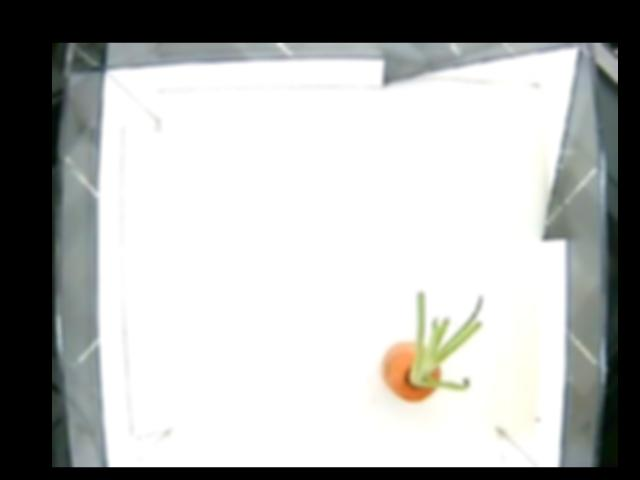Carrot: (380, 294, 485, 406)
